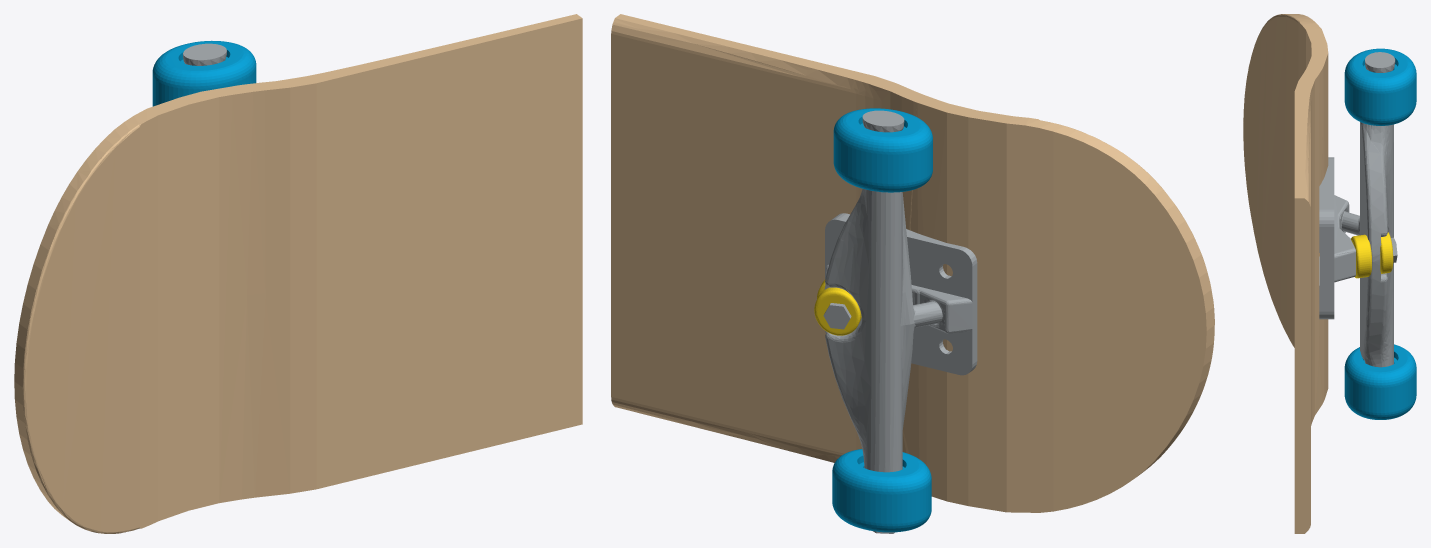
Rendered from tinker.obj.
3 views of the same model, side by side, from view 1: azimuth 30°, elevation 25°; view 2: azimuth 150°, elevation 25°; view 3: azimuth 270°, elevation 25° (orthographic). The views are drawn at different scales.
Visible parts, largest first — view 1: group_0_14860437, group_0_40919, group_0_10988977; view 2: group_0_14860437, group_0_10988977, group_0_40919, group_0_16768282; view 3: group_0_14860437, group_0_10988977, group_0_40919, group_0_16768282.
Boxes of the visible parts, x1,y1,x2,y2 form: group_0_14860437: (14,14,582,533); group_0_40919: (152,40,256,106); group_0_10988977: (183,43,226,65); group_0_14860437: (611,14,1214,512); group_0_10988977: (823,110,977,533); group_0_40919: (832,108,932,532); group_0_16768282: (814,279,861,335); group_0_14860437: (1243,14,1328,533); group_0_10988977: (1319,52,1397,367); group_0_40919: (1344,48,1416,419); group_0_16768282: (1351,232,1393,278).
Bounding box in the file's own units: 52 × 36 × 16.
